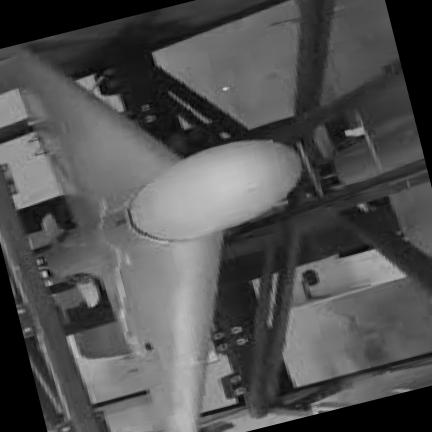Shahed: (0, 43, 303, 432)
